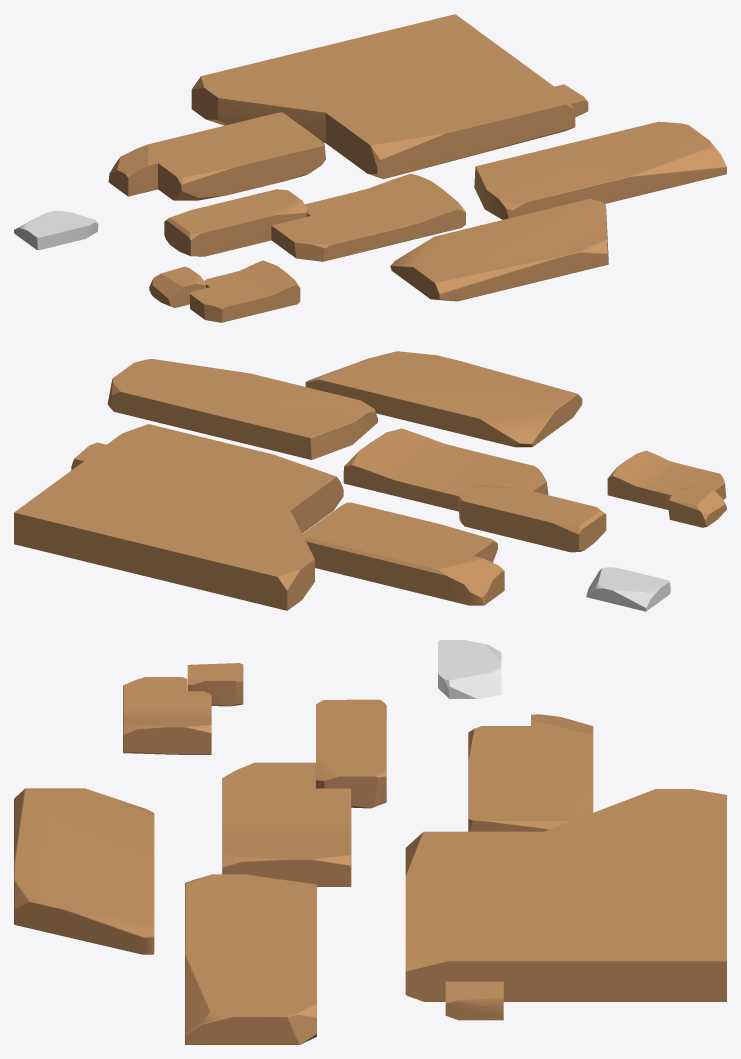
The model's file is Rock path type1.fbx.
3 views of the same model, one above another, from view 1: azimuth 30°, elevation 25°; view 2: azimuth 150°, elevation 25°; view 3: azimuth 270°, elevation 25° (orthographic). The views are drawn at different scales.
Visible parts, largest first — view 1: Cube.064, Cube.067, Cube.108, Cube.063, Cube.066, Cube.065, Cube.111, Cube.109, Cube.110; view 2: Cube.064, Cube.067, Cube.108, Cube.063, Cube.066, Cube.065, Cube.111, Cube.109, Cube.110; view 3: Cube.064, Cube.067, Cube.108, Cube.066, Cube.063, Cube.065, Cube.111, Cube.109, Cube.110.
Boxes of the visible parts, x1,y1,x2,y2 form: Cube.064: (191,14,588,179); Cube.067: (474,121,726,219); Cube.108: (390,198,608,301); Cube.063: (108,112,325,200); Cube.066: (271,174,465,261); Cube.065: (164,189,307,256); Cube.111: (190,260,300,322); Cube.109: (14,210,98,249); Cube.110: (149,266,205,307); Cube.064: (14,424,343,610); Cube.067: (107,359,377,459); Cube.108: (305,351,582,447); Cube.063: (302,502,504,605); Cube.066: (343,428,548,511); Cube.065: (458,485,606,552); Cube.111: (607,450,726,509); Cube.109: (586,567,670,611); Cube.110: (668,486,726,527); Cube.064: (405,789,726,1020); Cube.067: (185,874,316,1044); Cube.108: (14,788,154,954); Cube.066: (222,762,351,886); Cube.063: (468,714,593,831); Cube.065: (316,699,386,808); Cube.111: (123,677,211,754); Cube.109: (438,640,501,698); Cube.110: (187,663,243,706).
Bounding box in the file's own units: 1842 × 93.41 × 1428.
